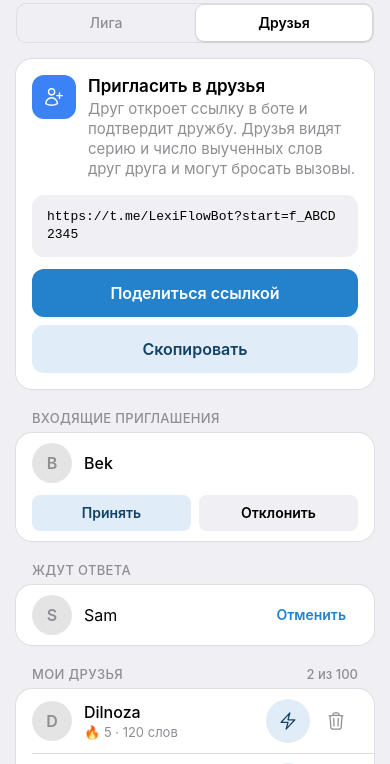
Test: FriendsView › the friends › removes a friend only after the confirmation, then reloads the challenges
Click the 1st button with test id "remove-btn".
click(336, 721)  # box [314,699,358,743]
(page scrolled)
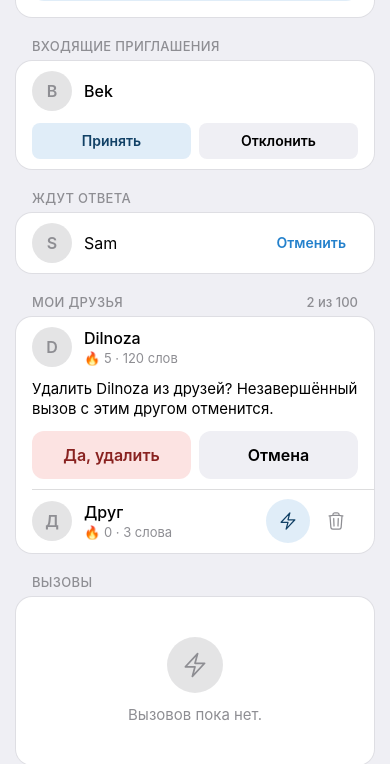
Now the element with test id "remove-confirm" shows "Удалить Dilnoza из друзей?", box [32,379,357,418]
Click the button with test id "remove-yes".
click(112, 455)  # box [32,431,191,479]
(page scrolled)
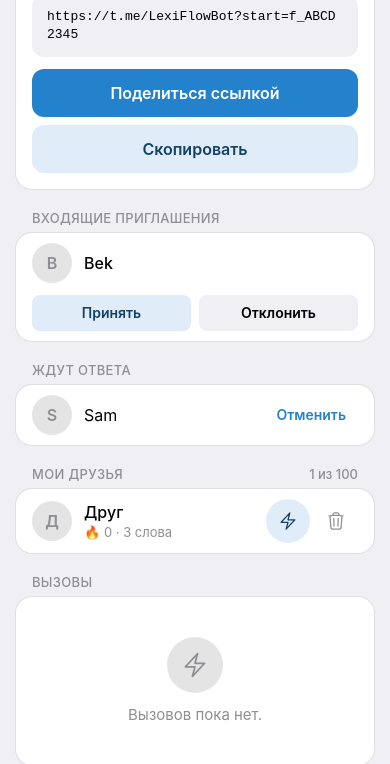
Now the number of elements with test id "friend-row" is 1, box [16,489,374,553]
